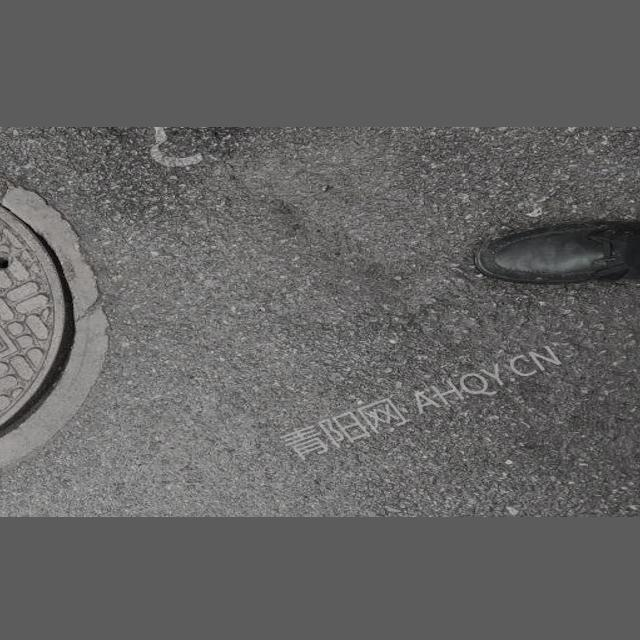circle: (0, 148, 135, 489)
